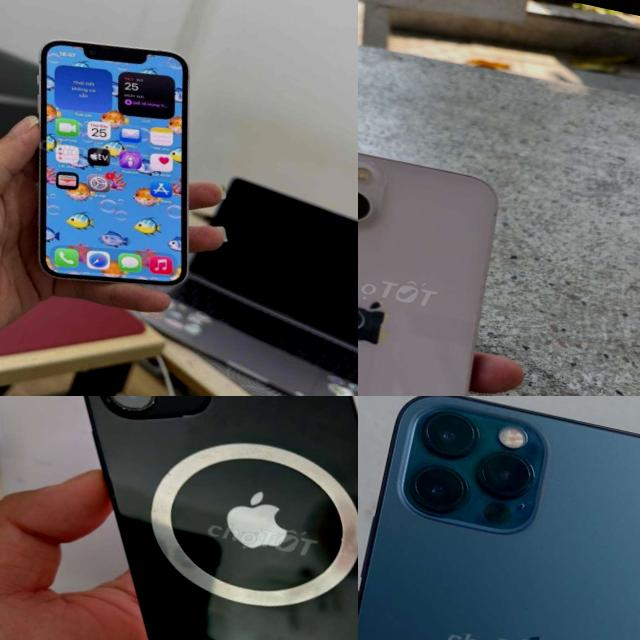gen_12_13: (0, 396, 358, 640), (358, 396, 640, 640), (0, 16, 233, 304), (358, 132, 524, 396)
